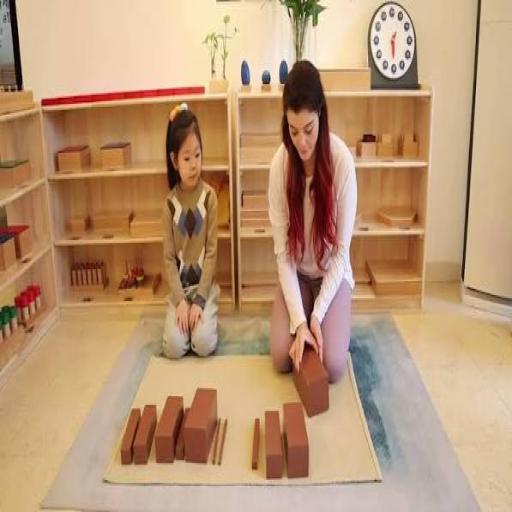brownstair: (117, 384, 314, 483)
jam: (370, 3, 417, 82)
